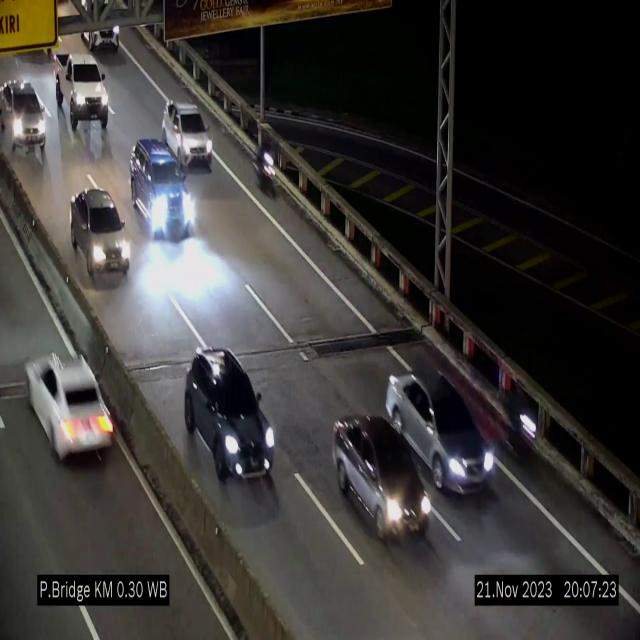Car: (15, 326, 121, 471), (385, 372, 499, 493), (335, 410, 433, 540), (184, 349, 276, 484), (130, 137, 198, 240), (72, 189, 130, 278), (54, 45, 113, 127), (0, 76, 48, 158), (162, 101, 212, 170)
Motorcycle: (485, 366, 537, 466), (253, 128, 277, 202)
